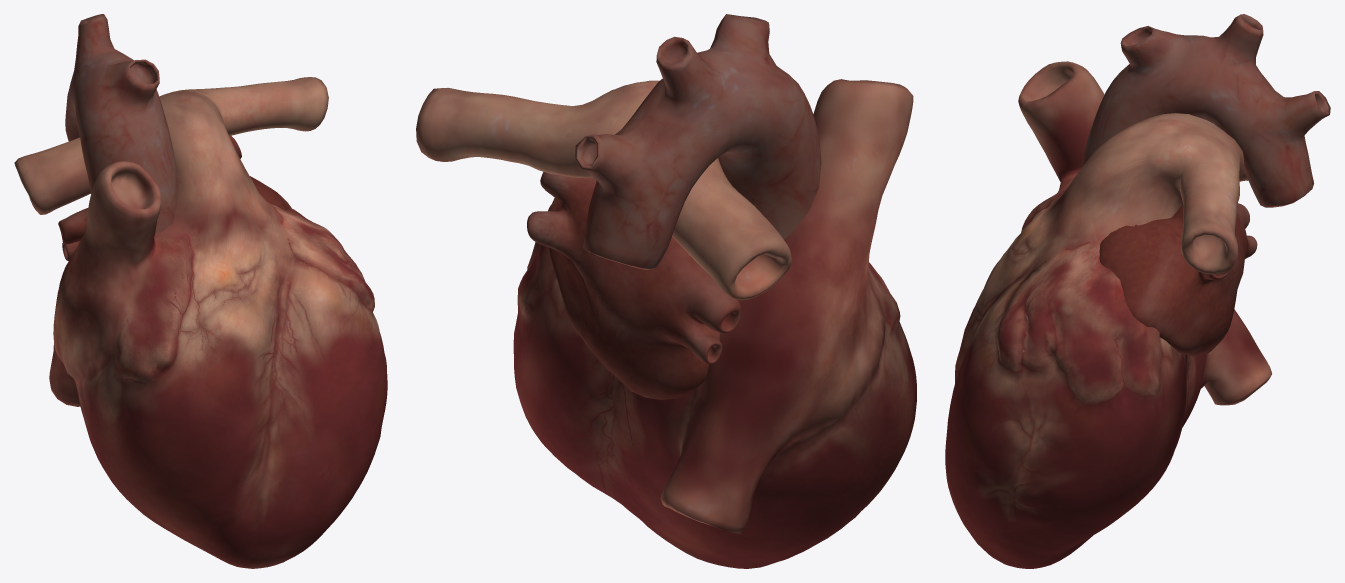
Rendered from heart.glb.
3 views of the same model, side by side, from view 1: azimuth 30°, elevation 25°; view 2: azimuth 150°, elevation 25°; view 3: azimuth 270°, elevation 25° (orthographic). The views are drawn at different scales.
Parts seen in each view (by area): view 1: heart, long, small; view 2: heart, long, small; view 3: heart, long, small.
Part boxes in pixels (x1,y1,x2,y2): heart: (14,77,387,568); long: (65,14,177,233); small: (58,136,291,261); heart: (416,79,916,568); long: (574,14,821,269); small: (527,172,741,399); heart: (945,61,1271,568); long: (1081,14,1330,207); small: (1099,203,1257,356).
Size of the model in its own units: 1.81 by 2.9 by 1.97.
Materials: 3 (3 with a texture image).
